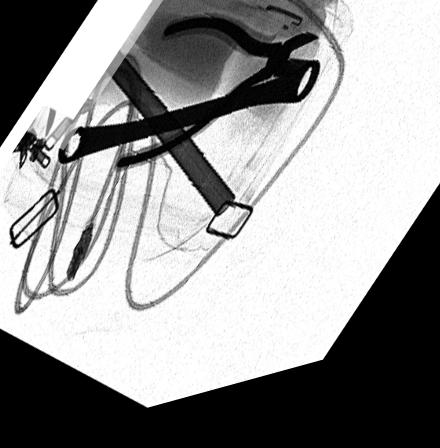Hammer: (40, 0, 236, 233)
Pliers: (108, 21, 320, 180)
Wrench: (51, 75, 321, 171)
